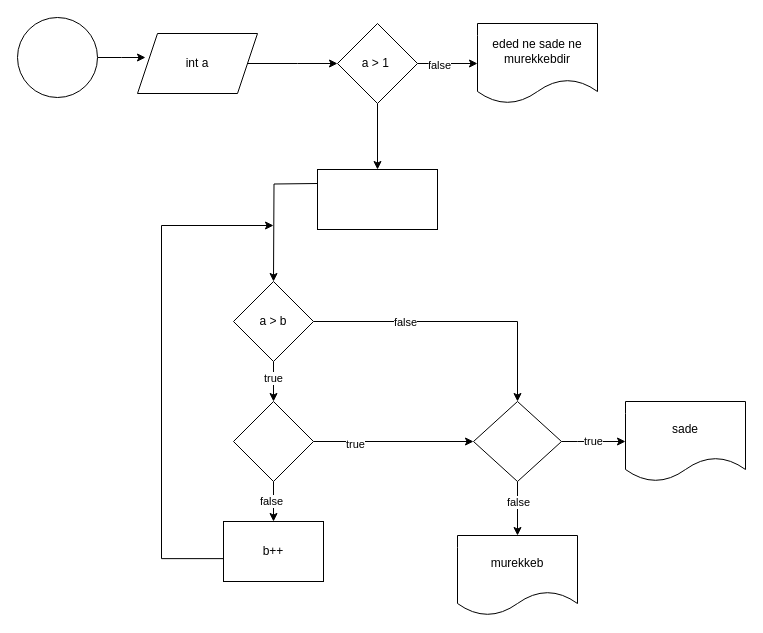
This 763x633 diagram has some shape labels left out. The shapes that lost their labels are listed below. From the top down, each one's box as (x1, y1, x2, y2) in pixels, then its label:
(16, 16, 98, 98): input
(316, 168, 438, 230): int b = 2
(232, 400, 314, 482): a % b == 0
(472, 400, 562, 482): a == b
